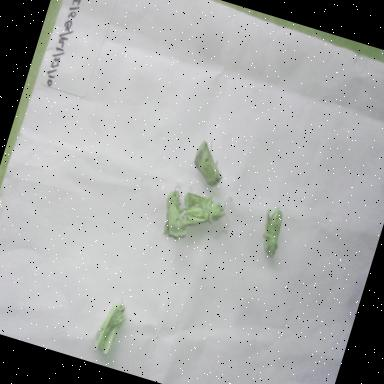abw: (80, 286, 140, 368), (170, 182, 234, 240), (152, 176, 203, 248), (183, 130, 235, 192), (250, 198, 295, 262)
